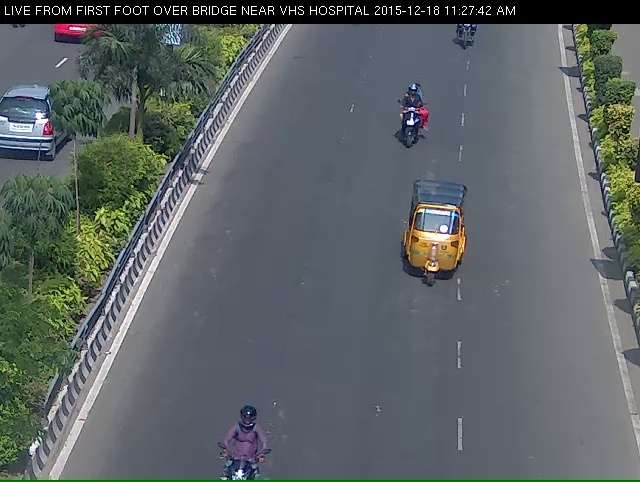Car: (397, 185, 472, 303)
Person: (394, 89, 431, 160)
